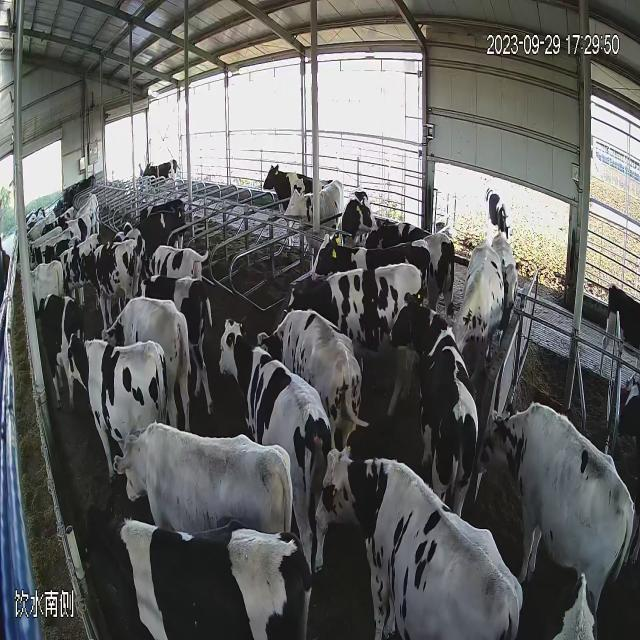standing: (312, 443, 528, 640), (483, 406, 637, 594), (220, 320, 334, 560), (387, 292, 486, 514), (115, 426, 292, 534), (65, 335, 172, 424), (262, 156, 318, 206), (138, 156, 190, 195)
